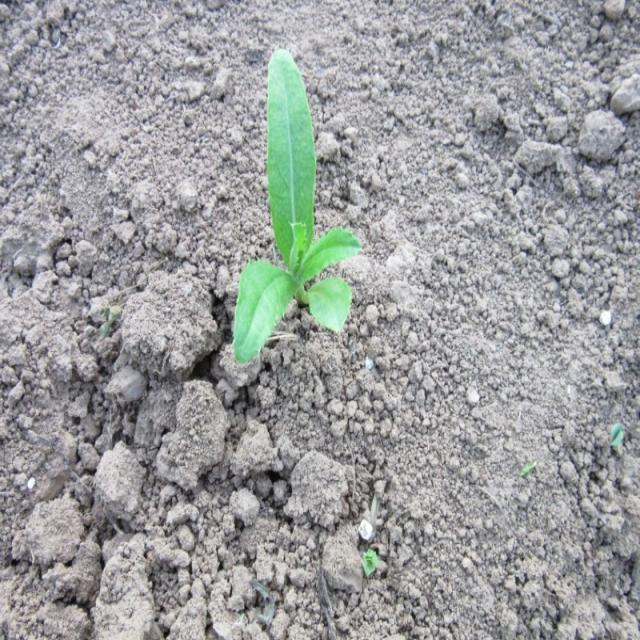cs: (229, 38, 368, 368)
